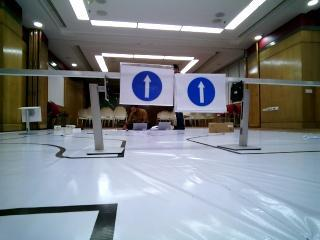straight: (122, 64, 173, 105), (176, 73, 228, 112)
